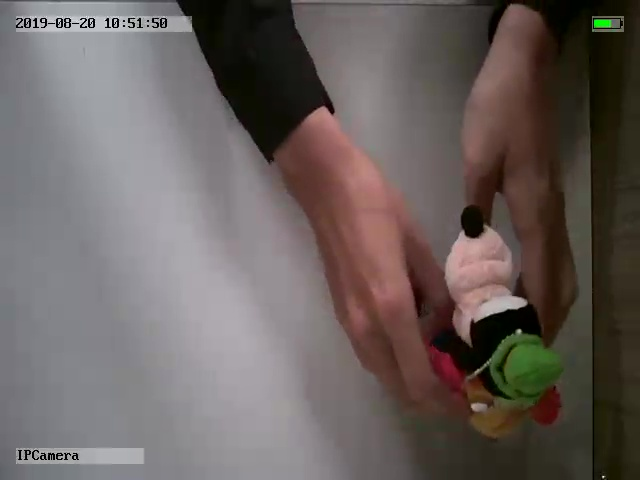goofy: (423, 204, 563, 439)
